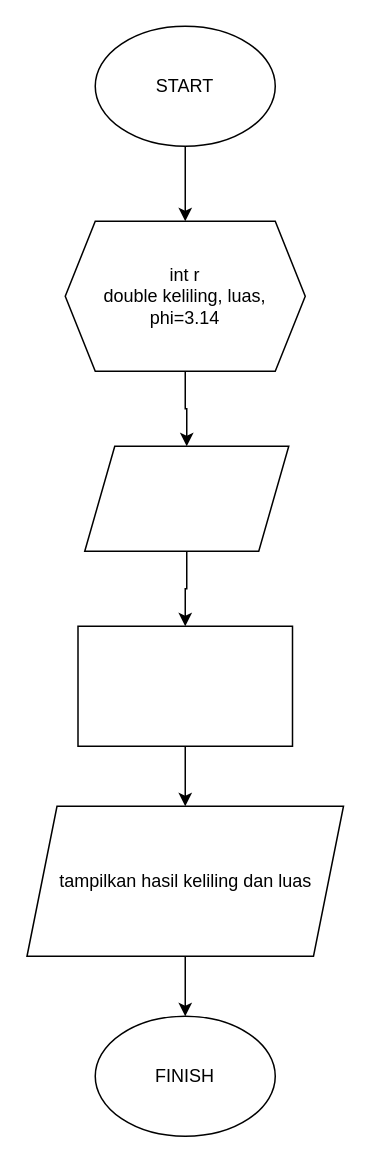
Image size: 369x1163. Some labels were removed from this diagram. The shapes that lost their labels are listed below. From the top down, each one's centre as x and y in pixels, then its label:
pixel 186 498: input r
pixel 184 685: keliling=2*phi*r luas=phi*r*r
